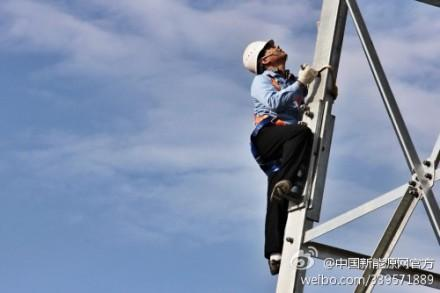helmet: (240, 40, 292, 75)
